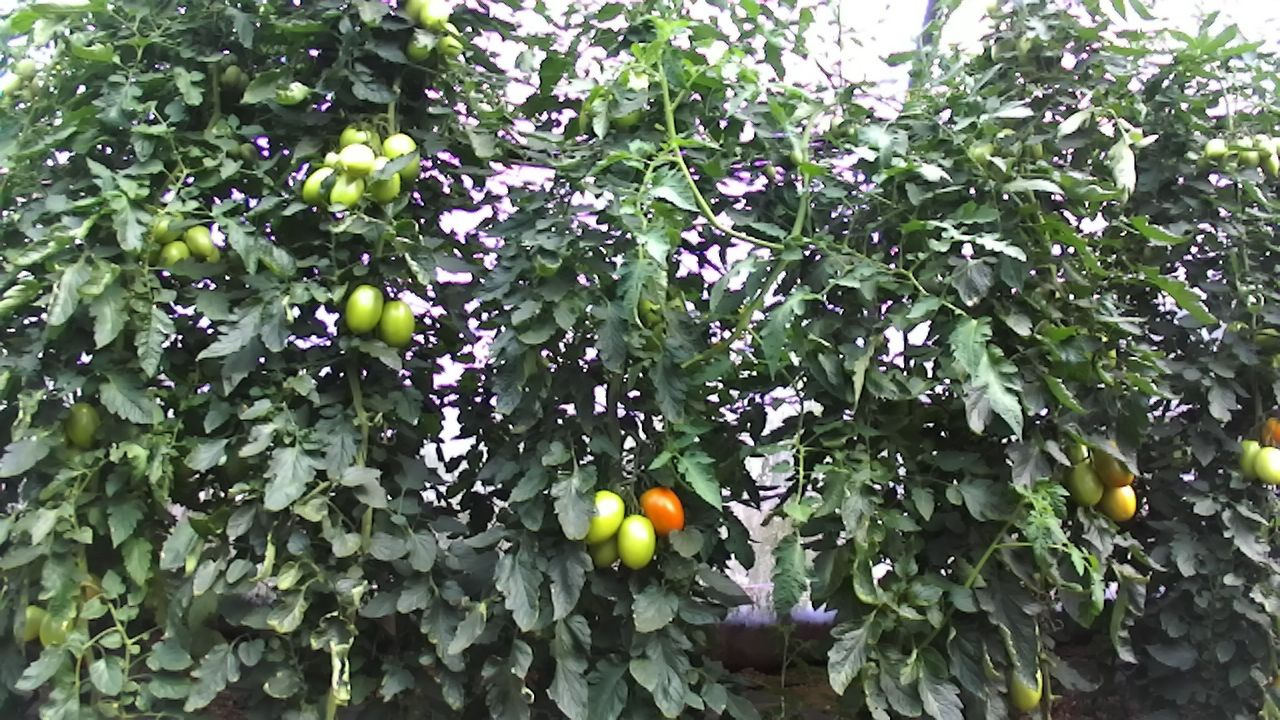tomato: (637, 484, 687, 537), (615, 511, 658, 572), (582, 488, 627, 545), (360, 151, 406, 205), (62, 398, 107, 453), (1006, 659, 1048, 716), (380, 129, 423, 184), (1090, 440, 1136, 490), (342, 282, 384, 336), (1063, 459, 1108, 509), (1094, 476, 1140, 524), (377, 297, 417, 350), (299, 162, 339, 204), (336, 139, 376, 178), (327, 173, 365, 209), (415, 0, 454, 32), (1251, 444, 1280, 487), (184, 222, 215, 259), (221, 61, 243, 91)
